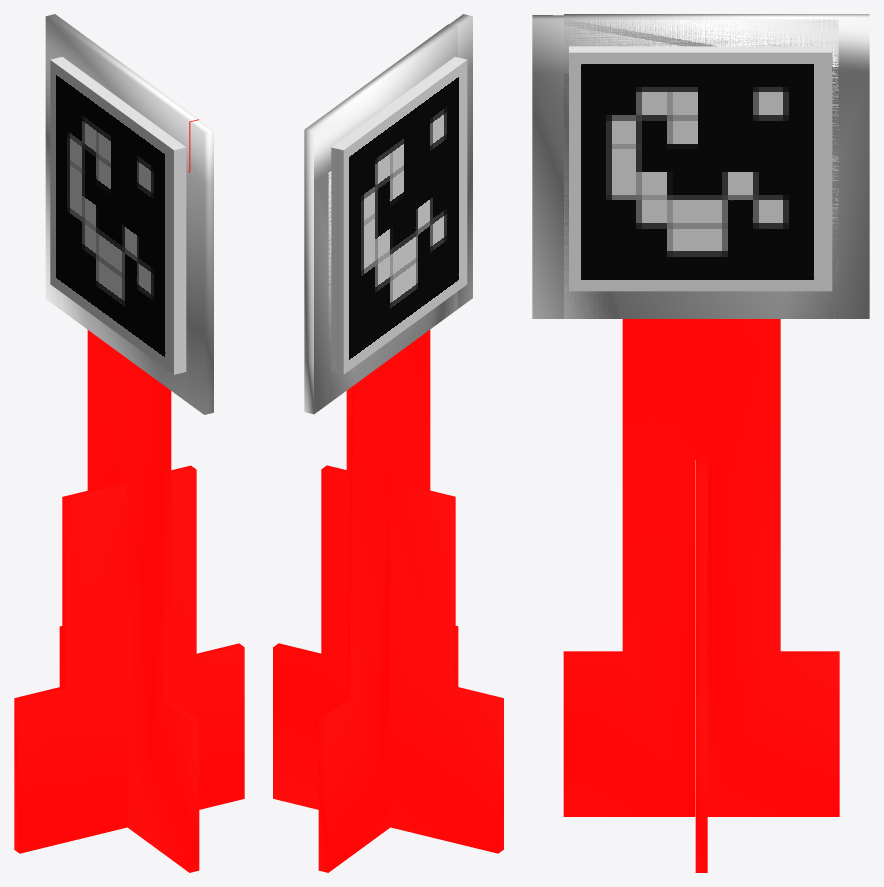
File: creeper.dae
3 renders of one model, left to right at view 1: azimuth 30°, elevation 25°; view 2: azimuth 150°, elevation 25°; view 3: azimuth 270°, elevation 25°, orthographic. The views are drawn at different scales.
Visible parts, largest first — view 1: Creeper_-_Montagem_v3, MarkerData; view 2: Creeper_-_Montagem_v3, MarkerData; view 3: Creeper_-_Montagem_v3, MarkerData_001.
Boxes of the visible parts, bbox=[...] form: Creeper_-_Montagem_v3: bbox=[14, 14, 244, 872]; MarkerData: bbox=[50, 56, 186, 374]; Creeper_-_Montagem_v3: bbox=[273, 14, 503, 872]; MarkerData: bbox=[331, 56, 467, 374]; Creeper_-_Montagem_v3: bbox=[532, 14, 869, 872]; MarkerData_001: bbox=[569, 46, 832, 291].
Bounding box in the file's own units: 0.063 × 0.077 × 0.2007.
Materials: 3 (1 with a texture image).
